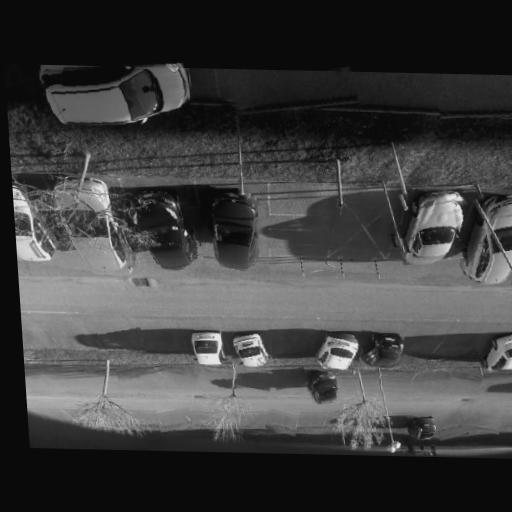busy: (32, 62, 192, 130), (114, 188, 202, 274), (392, 189, 474, 268), (455, 195, 512, 288), (197, 190, 263, 270), (57, 210, 132, 268), (315, 331, 365, 373), (358, 331, 406, 370), (227, 331, 272, 369), (474, 331, 512, 372), (304, 369, 346, 404), (184, 330, 227, 364), (408, 414, 437, 442)
free: (230, 68, 359, 118), (437, 79, 512, 123), (48, 316, 99, 357), (93, 322, 144, 356), (116, 365, 164, 390), (192, 364, 238, 389), (156, 401, 193, 432), (155, 364, 199, 390), (267, 331, 312, 356), (265, 403, 300, 435), (432, 409, 468, 440), (233, 365, 273, 392), (183, 402, 222, 428), (39, 405, 78, 431), (466, 407, 503, 433), (374, 369, 412, 394), (140, 329, 180, 352), (448, 368, 484, 393), (295, 406, 330, 431), (272, 368, 308, 390), (411, 371, 449, 391), (441, 337, 473, 352), (405, 336, 433, 352), (502, 410, 512, 432)
